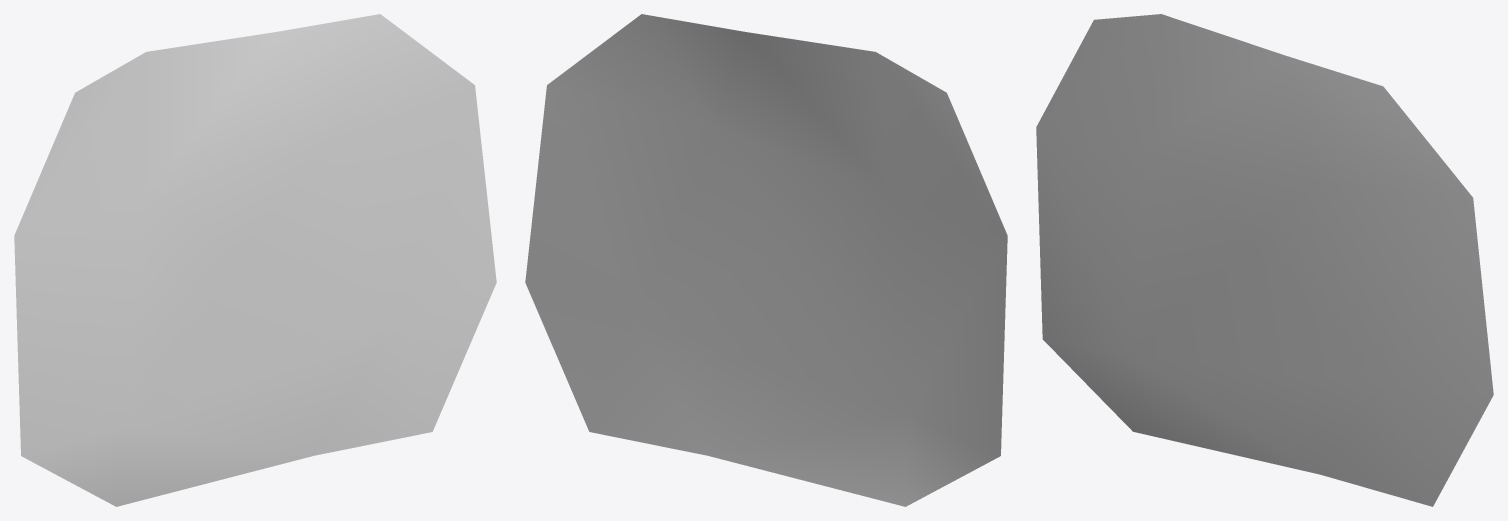
The model's file is SM_Env_Vine_01.fbx.
The picture shows the model from 3 angles, left to right: view 1: azimuth 30°, elevation 25°; view 2: azimuth 150°, elevation 25°; view 3: azimuth 330°, elevation 25°; orthographic projection. The views are drawn at different scales.
Visible parts, largest first — view 1: SM_Env_Vine_01; view 2: SM_Env_Vine_01; view 3: SM_Env_Vine_01.
Boxes of the visible parts, box(x1,y1,x2,y2) form: SM_Env_Vine_01: box(14, 14, 496, 506); SM_Env_Vine_01: box(525, 14, 1007, 506); SM_Env_Vine_01: box(1036, 14, 1493, 506).
Bounding box in the file's own units: 239 × 213 × 8.57.
